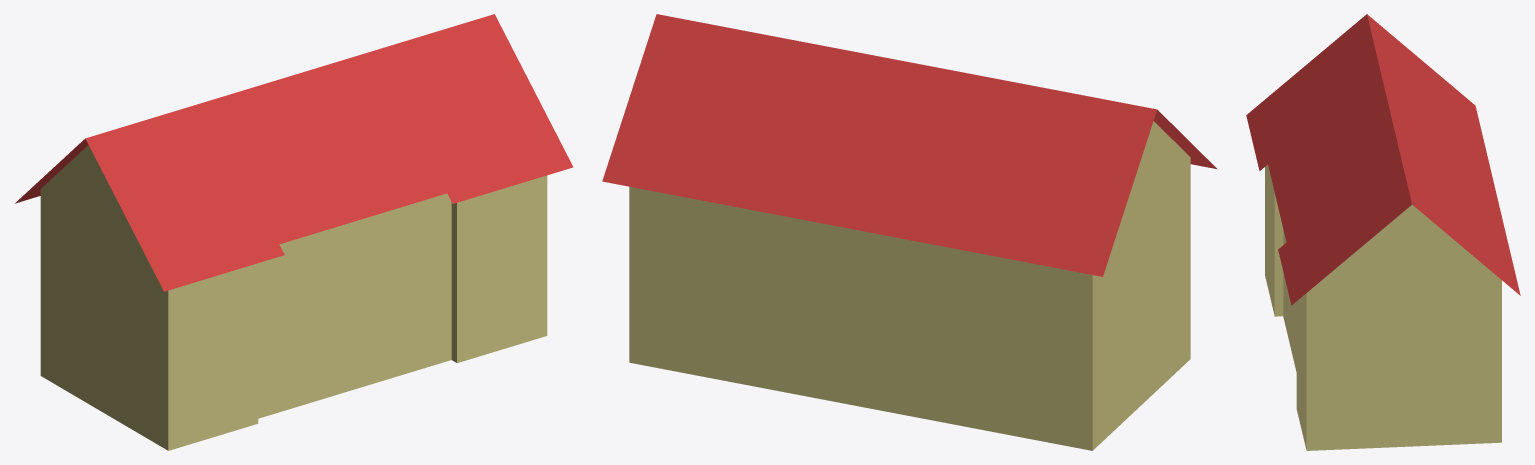
3 renders of one model, left to right at view 1: azimuth 30°, elevation 25°; view 2: azimuth 150°, elevation 25°; view 3: azimuth 270°, elevation 25°, orthographic. The views are drawn at different scales.
Bounding box in the file's own units: 27.9 × 16.16 × 16.19.
